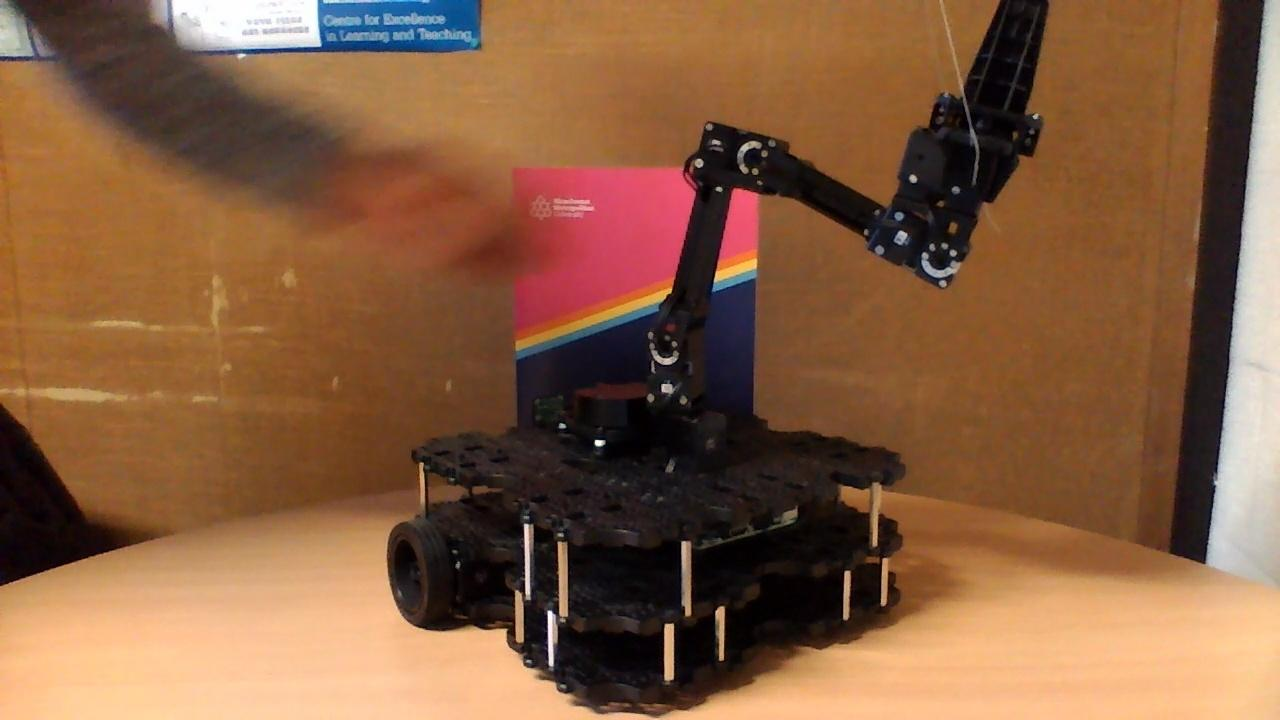Arm: (644, 116, 756, 366)
Hand: (914, 0, 1059, 289)
Wrist: (737, 131, 953, 286)
base: (384, 380, 911, 704)
